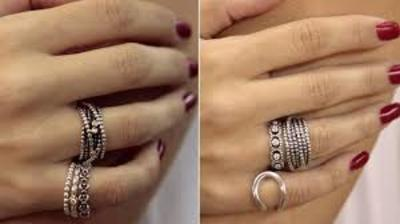mindinho: (44, 144, 170, 224), (245, 145, 376, 220)
